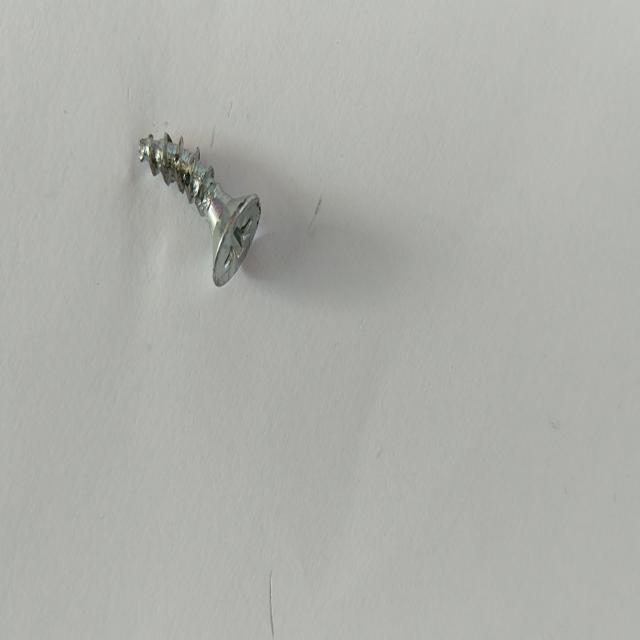Screw: (139, 132, 261, 285)
